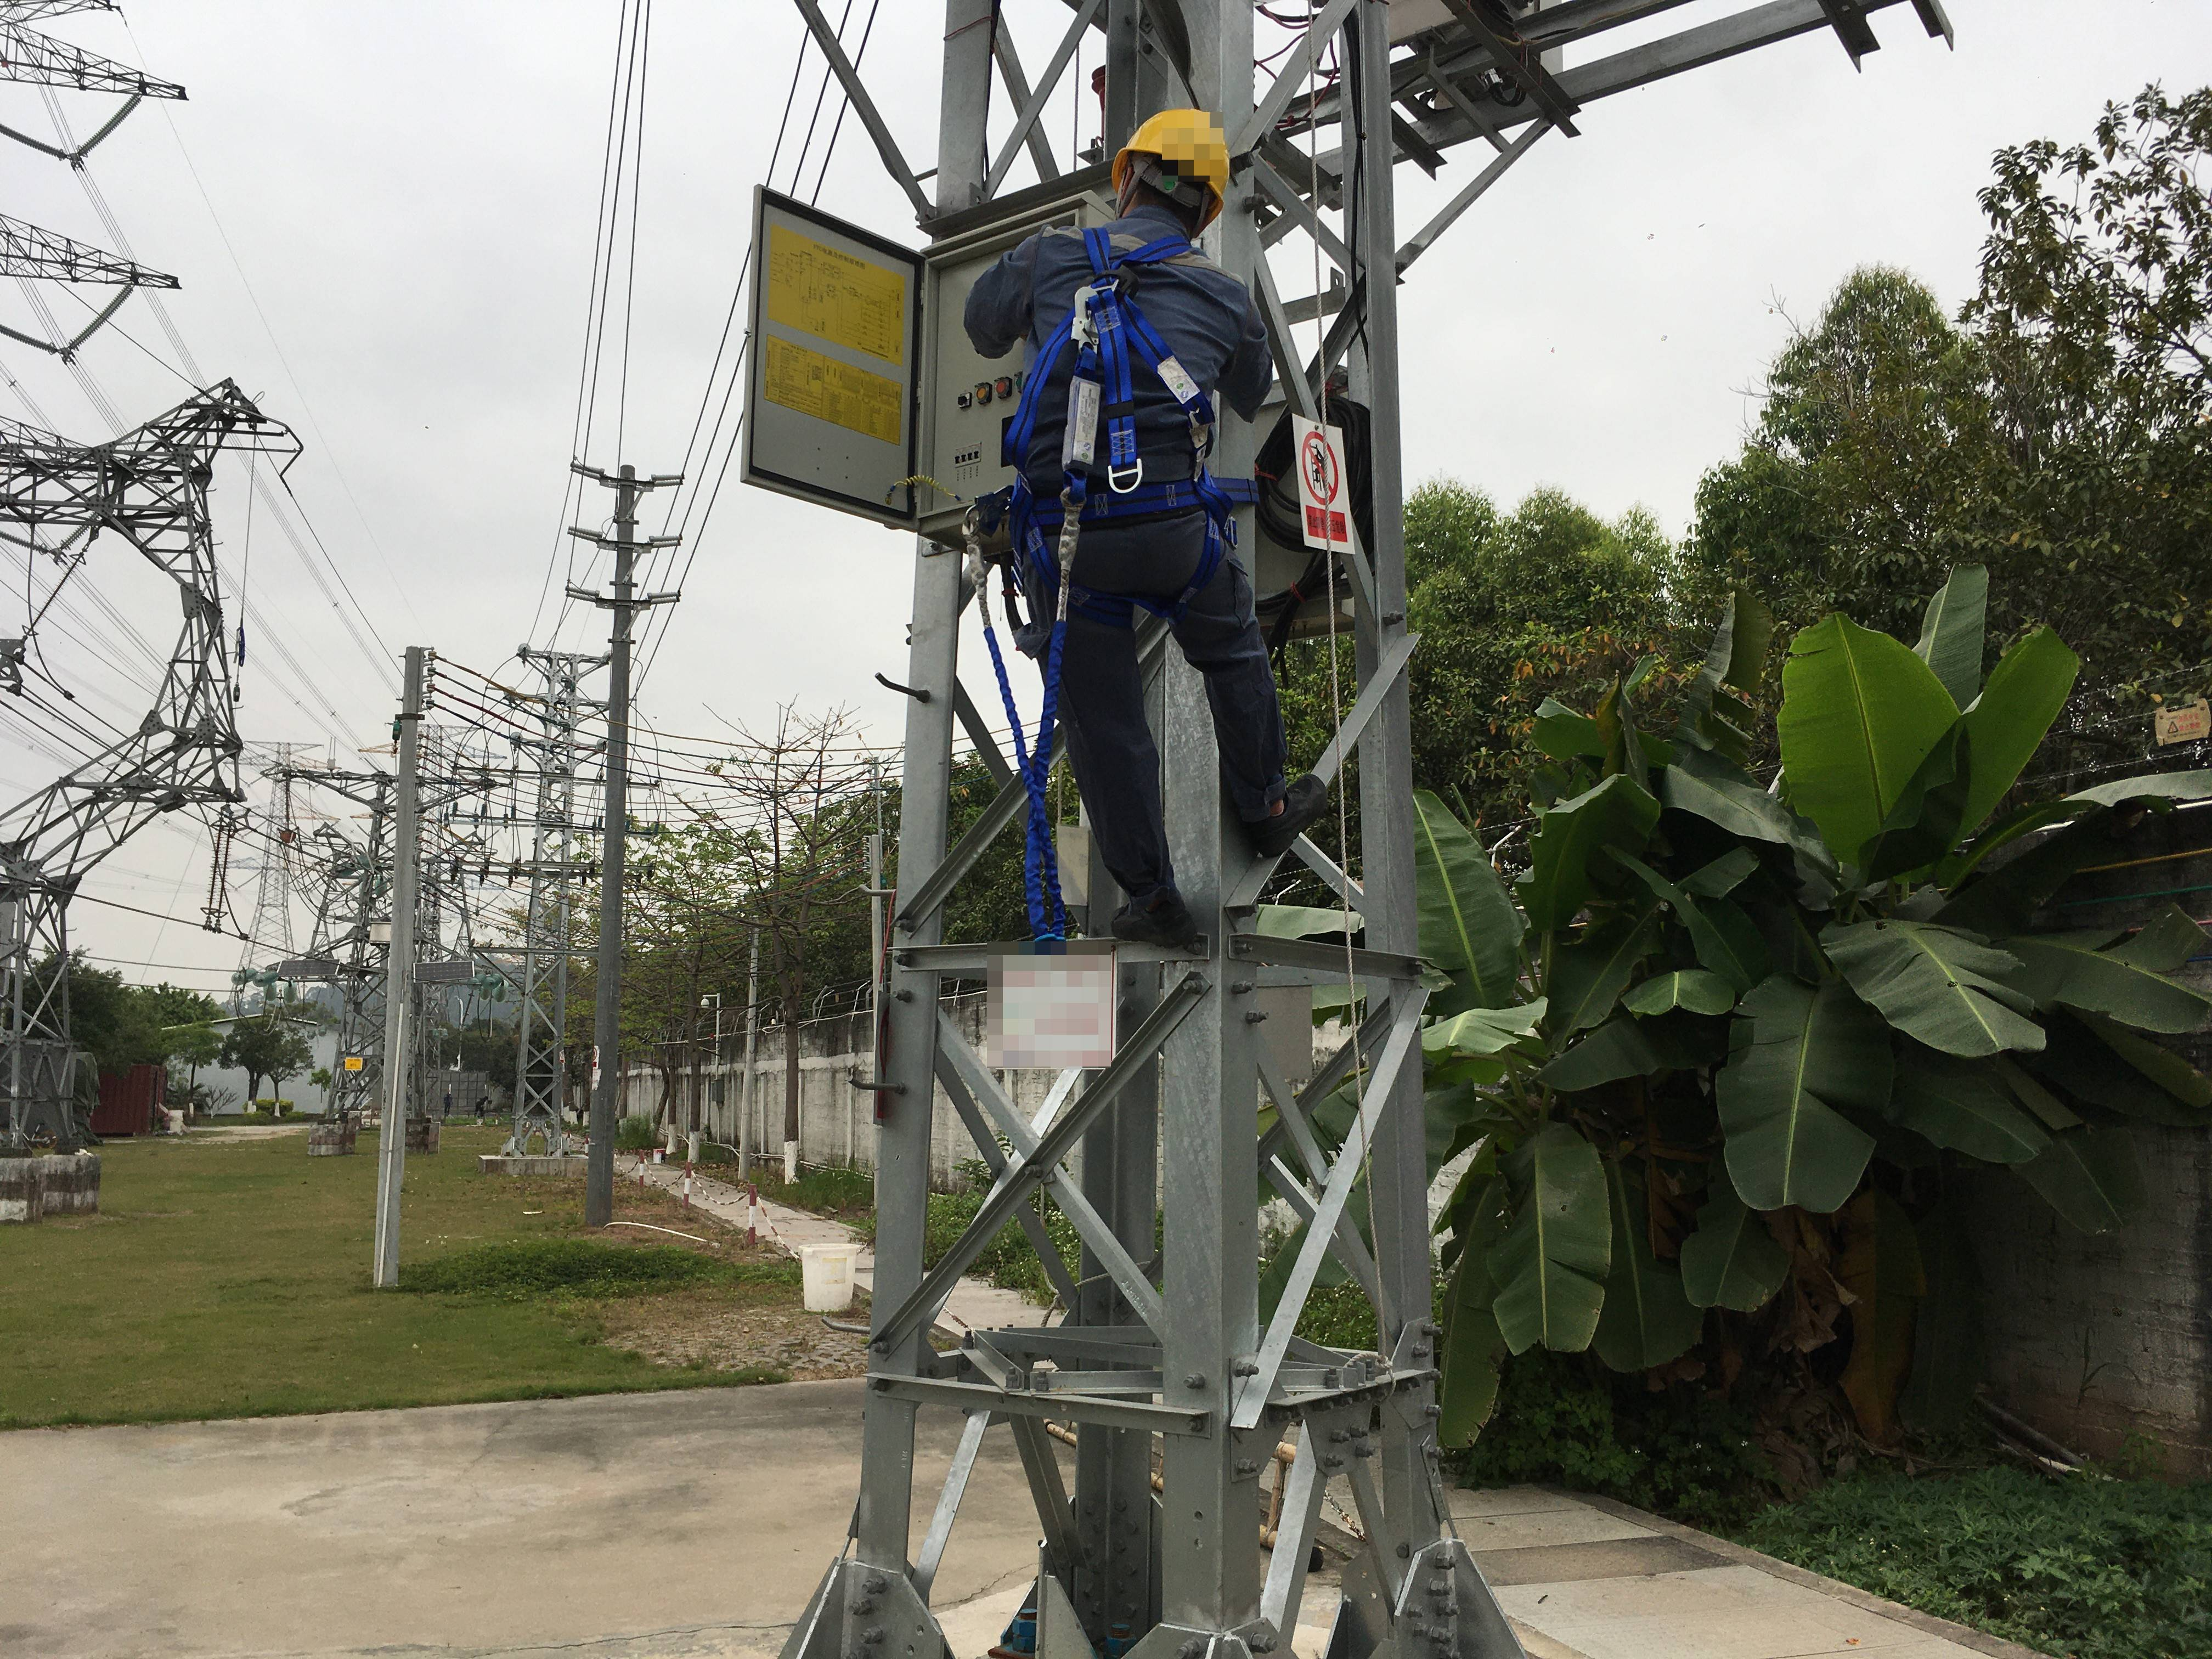downsuit: (1031, 535, 1294, 896)
upsuit: (986, 234, 1251, 516)
